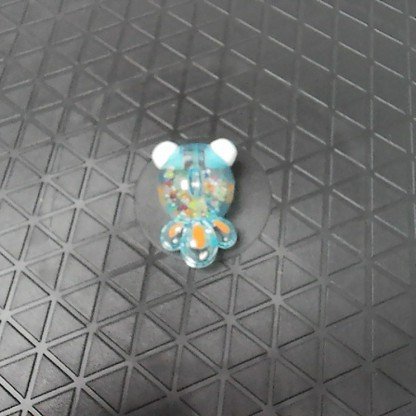bluefish: (145, 134, 240, 268)
